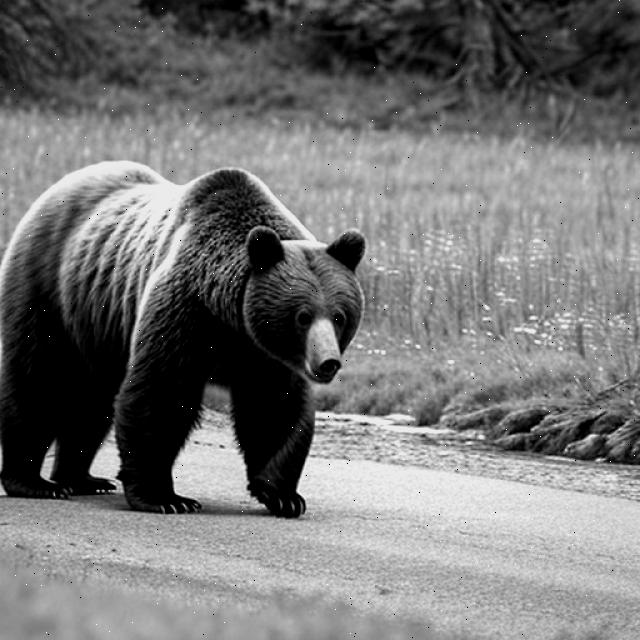bear: (4, 153, 409, 511)
